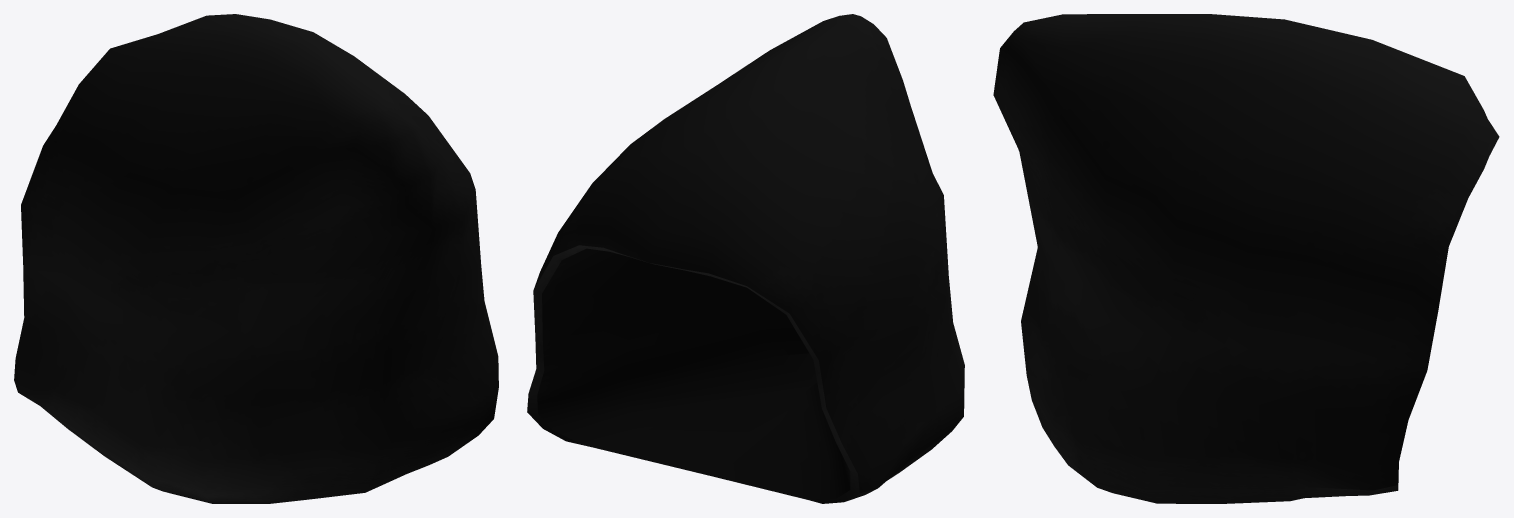
File: fusionbracehood.obj
3 renders of one model, left to right at view 1: azimuth 30°, elevation 25°; view 2: azimuth 150°, elevation 25°; view 3: azimuth 270°, elevation 25°, orthographic. The views are drawn at different scales.
Parts seen in each view (by area): view 1: Fusionbrace1; view 2: Fusionbrace1; view 3: Fusionbrace1.
Boxes of the visible parts, x1,y1,x2,y2 form: Fusionbrace1: (14, 14, 498, 503); Fusionbrace1: (527, 14, 964, 503); Fusionbrace1: (993, 14, 1499, 503).
Bounding box in the file's own units: 1.77 × 1.81 × 1.94.
1 material, 1 textured.
